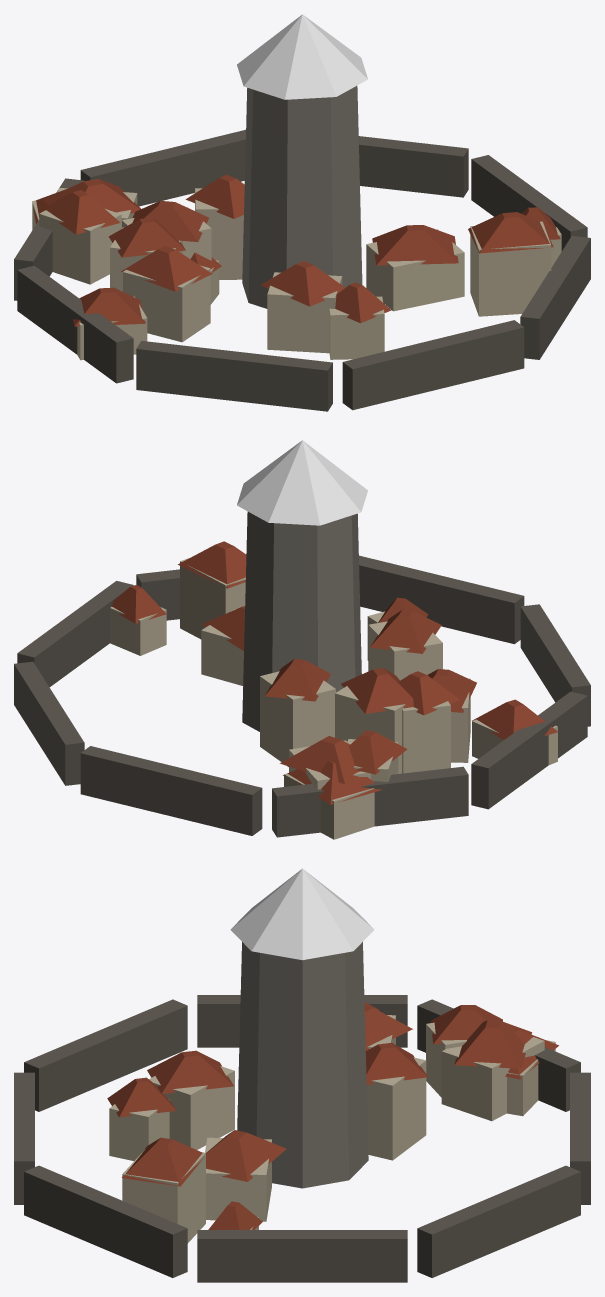
File: city_2.glb
3 renders of one model, top to bottom at view 1: azimuth 30°, elevation 25°; view 2: azimuth 150°, elevation 25°; view 3: azimuth 270°, elevation 25°, orthographic. The views are drawn at different scales.
Parts seen in each view (by area): view 1: city_2; view 2: city_2; view 3: city_2.
Boxes of the visible parts, box(x1,y1,x2,y2) form: city_2: box(14, 14, 590, 411); city_2: box(14, 440, 590, 839); city_2: box(14, 868, 590, 1282).
Size of the model in its own units: 3.89 by 2.14 by 3.84.
